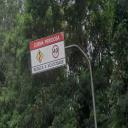speed_limit_40: (52, 44, 59, 58)
